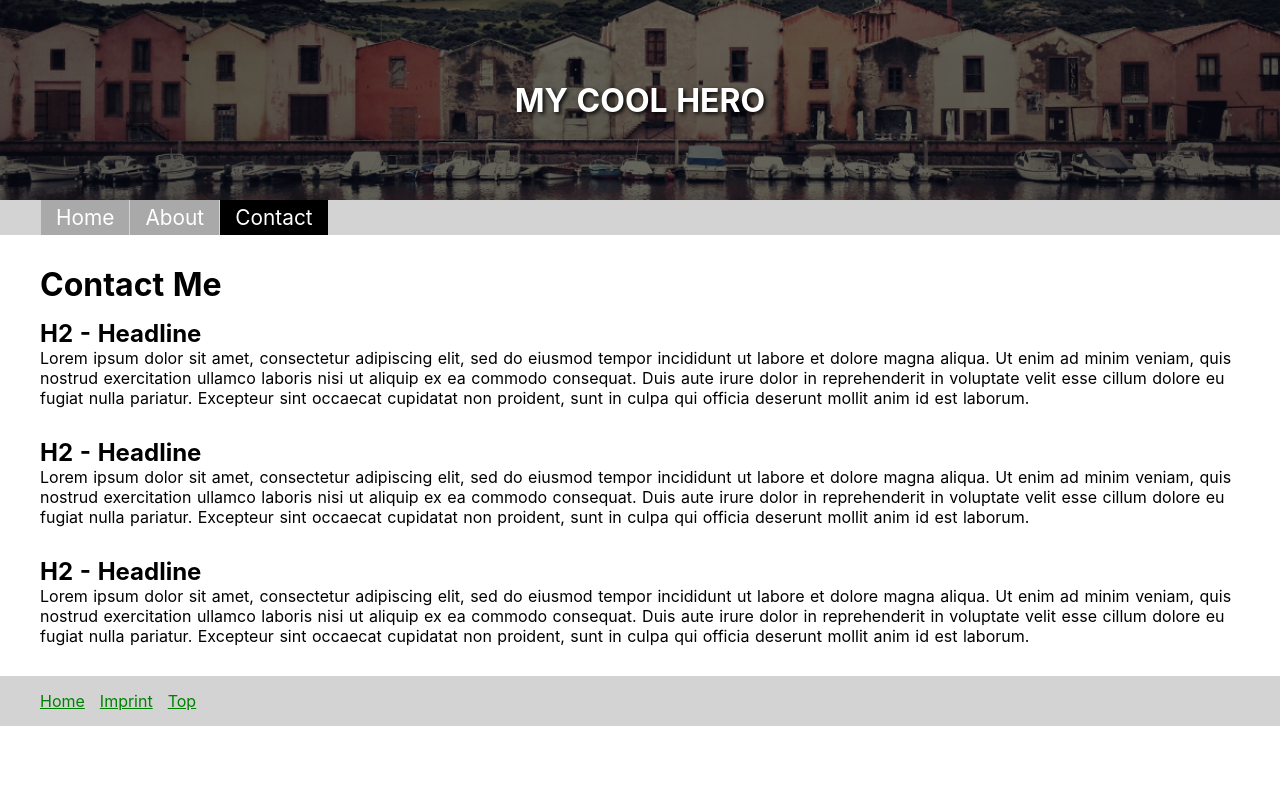
Test Page › Click imprint page in footer
The image size is (1280, 800).
Step 1. Click the link "Imprint" → (127, 701), box [100,691,153,711]
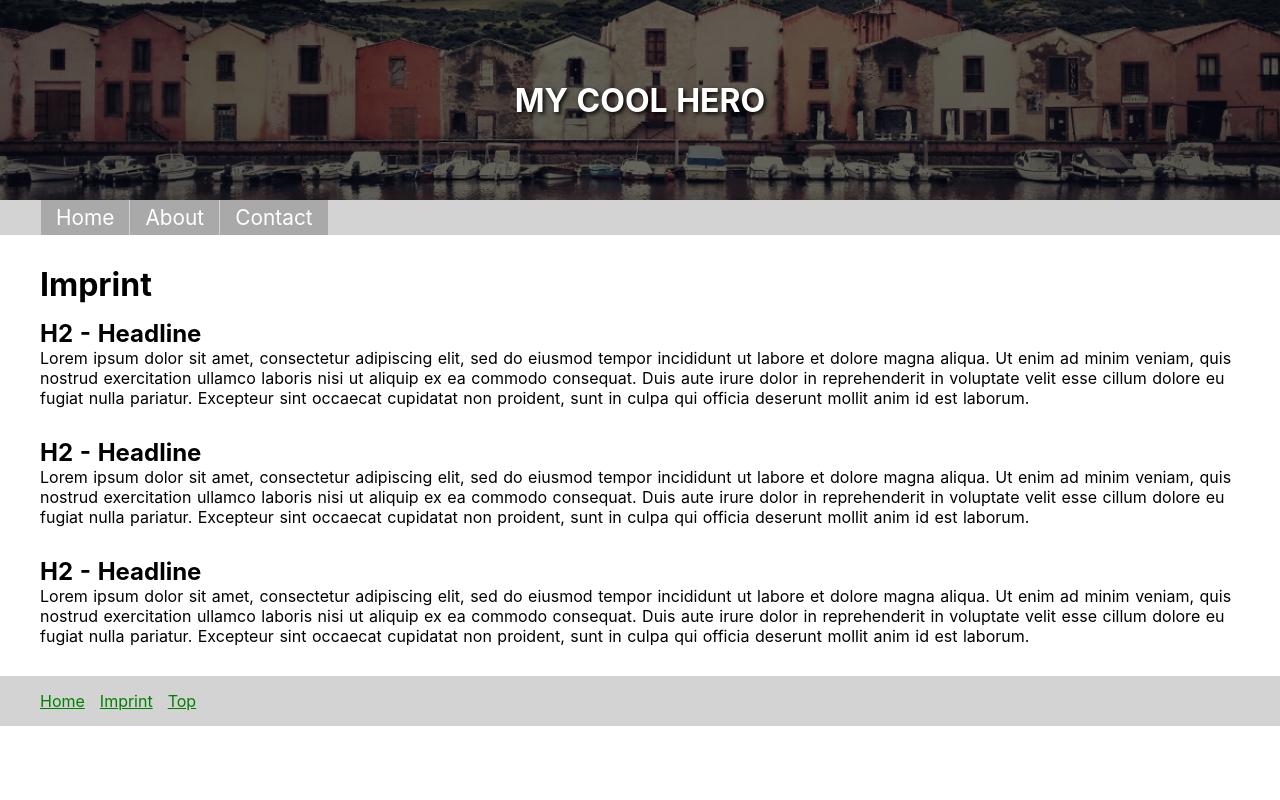
Result: the heading "Imprint" is shown at [40,265,152,304]
